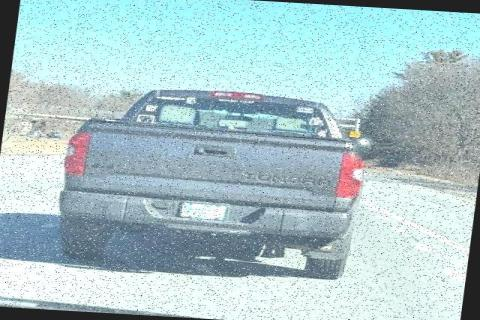LicensePlate: (176, 199, 230, 221)
